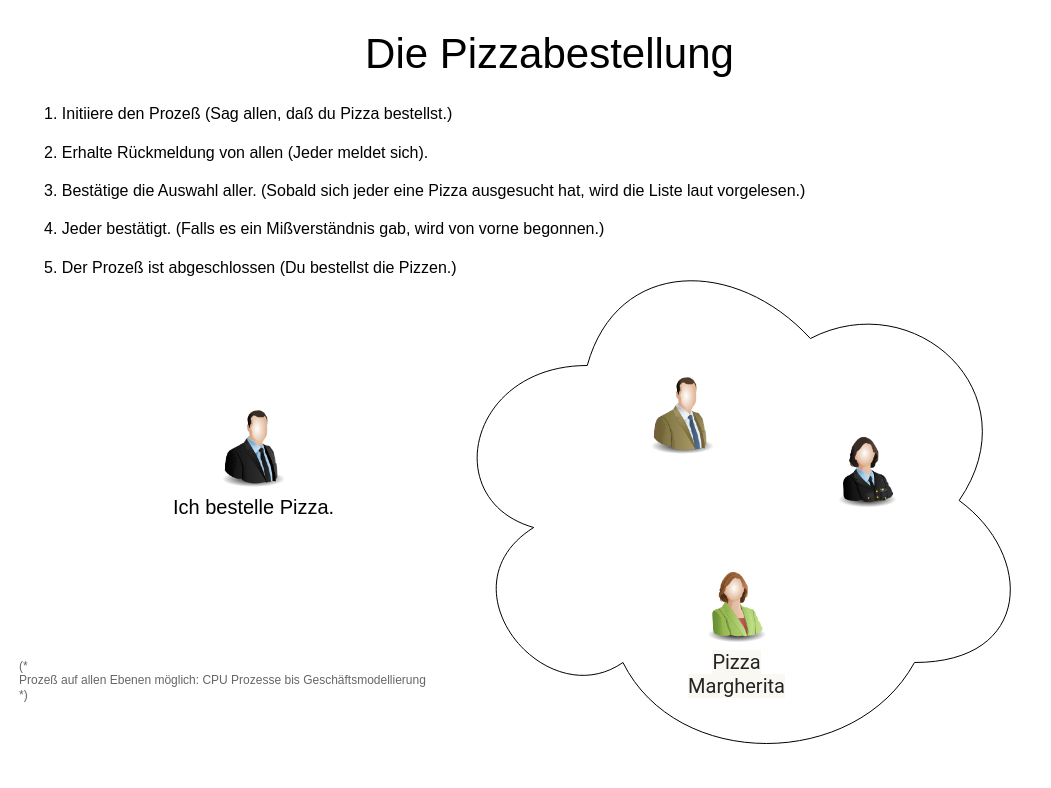
This 1051x788 diagram has some shape labels left out. The centre of each missing label's shape, as x and y in pixels:
"Pizza Salami" goes at point (682, 415).
"Pizza Tonno" goes at point (866, 468).
